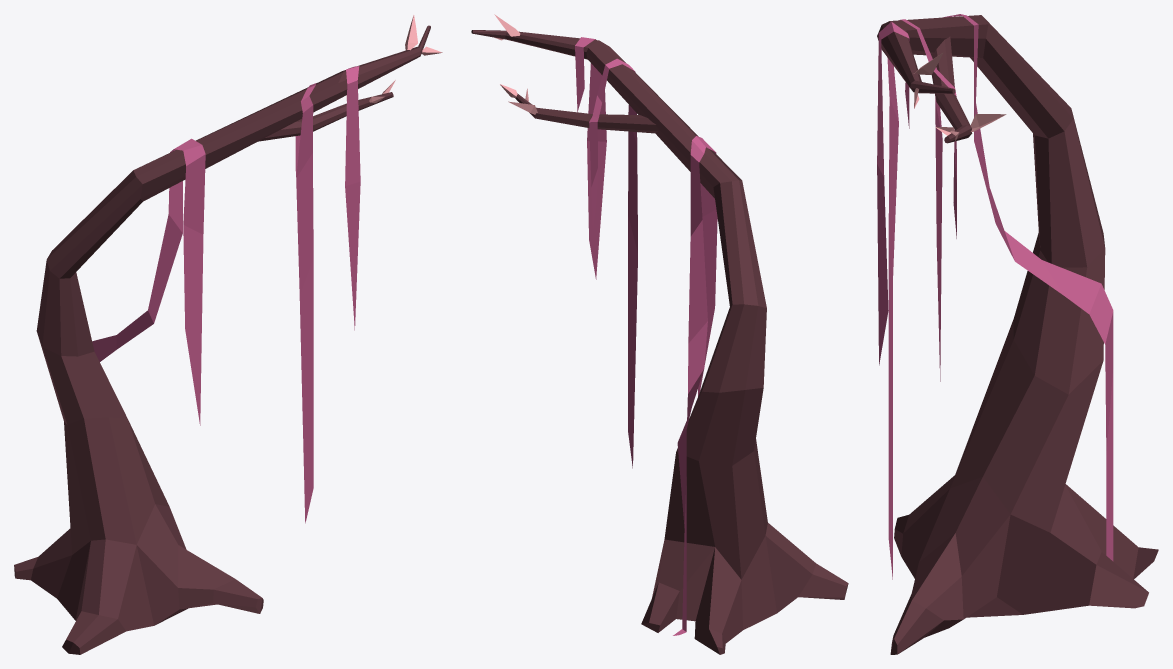
Rendered from scifi-tree-willow-medium.fbx.
3 renders of one model, left to right at view 1: azimuth 30°, elevation 25°; view 2: azimuth 150°, elevation 25°; view 3: azimuth 270°, elevation 25°, orthographic. The views are drawn at different scales.
Parts seen in each view (by area): view 1: scifi-tree-willow-medium; view 2: scifi-tree-willow-medium; view 3: scifi-tree-willow-medium.
Boxes of the visible parts, x1,y1,x2,y2 form: scifi-tree-willow-medium: (14,15,442,654); scifi-tree-willow-medium: (471,14,848,654); scifi-tree-willow-medium: (877,14,1158,654).
Size of the model in its own units: 3.89 by 5.28 by 1.89.
